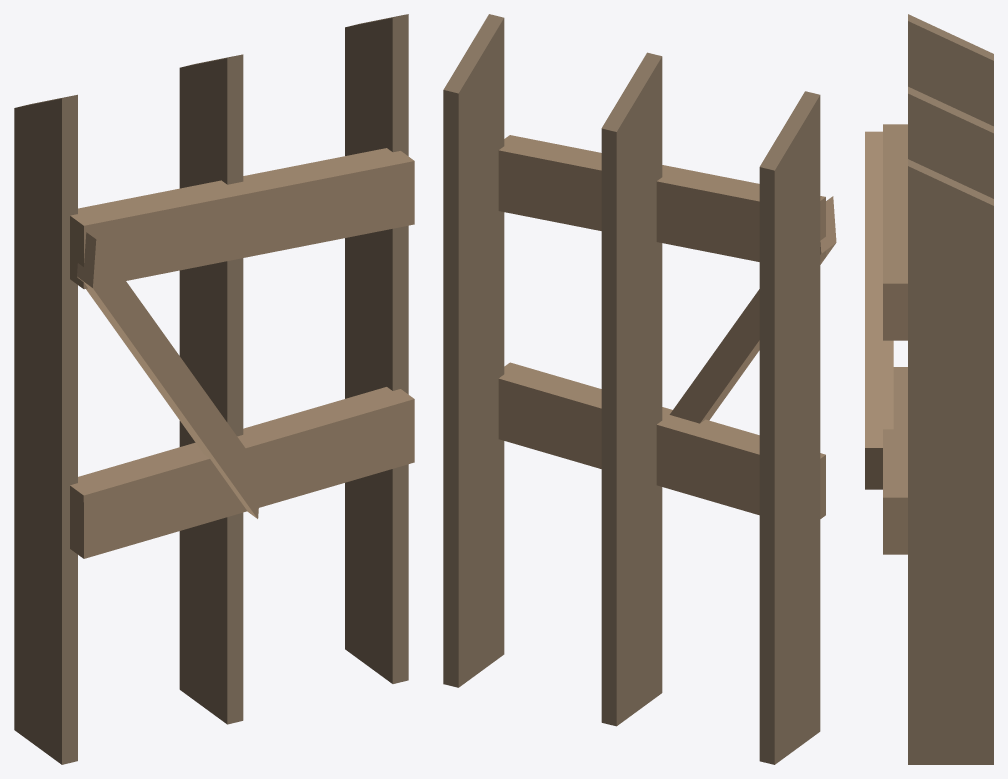
File: rail_gate.glb
The picture shows the model from 3 angles, left to right: view 1: azimuth 30°, elevation 25°; view 2: azimuth 150°, elevation 25°; view 3: azimuth 270°, elevation 25°; orthographic projection. The views are drawn at different scales.
Size of the model in its own units: 1.26 by 2.31 by 0.45.
